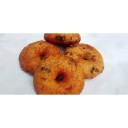vada: (33, 56, 84, 93), (64, 44, 104, 77), (21, 41, 62, 69), (43, 32, 83, 48)
